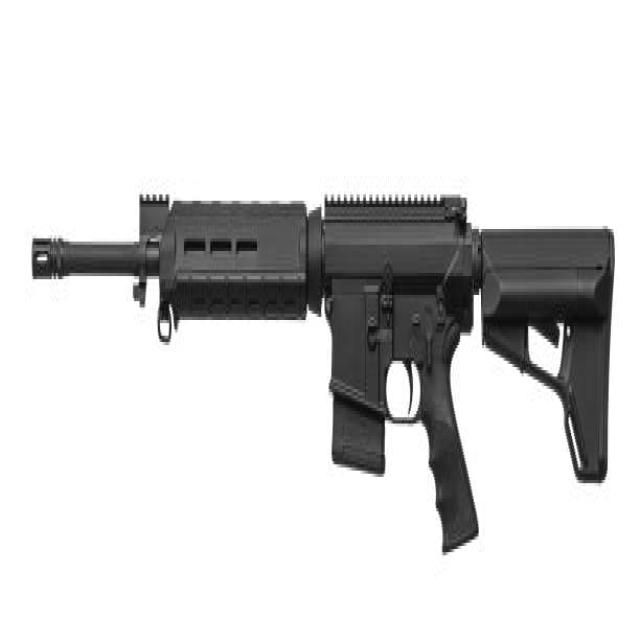rifle: (24, 168, 623, 580)
